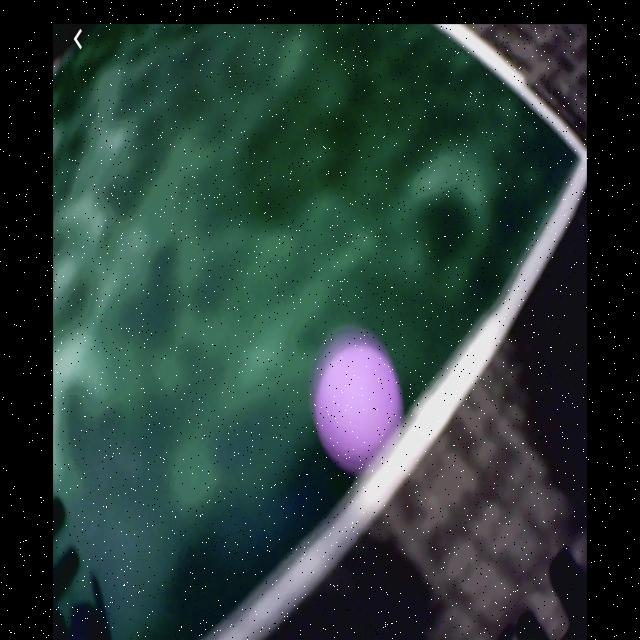ball: (314, 344, 400, 465)
